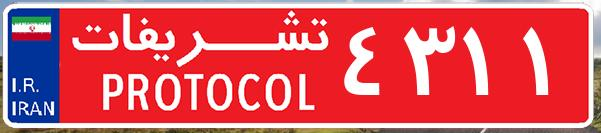1: (460, 20, 520, 115), (520, 20, 580, 115)
3: (400, 20, 460, 115)
4: (340, 20, 400, 115)
تشریفات: (60, 8, 340, 125)
